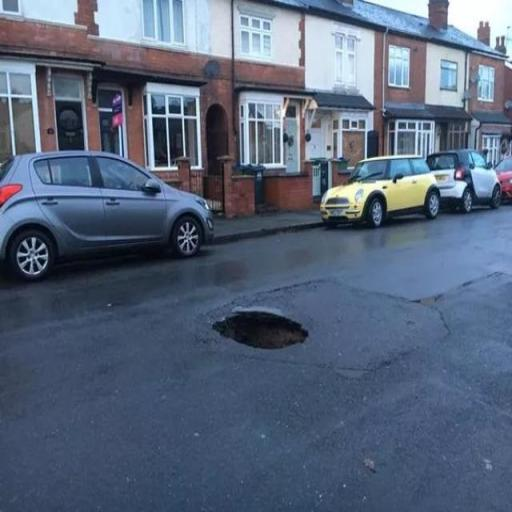Concentric_Crack: (213, 311, 308, 349)
